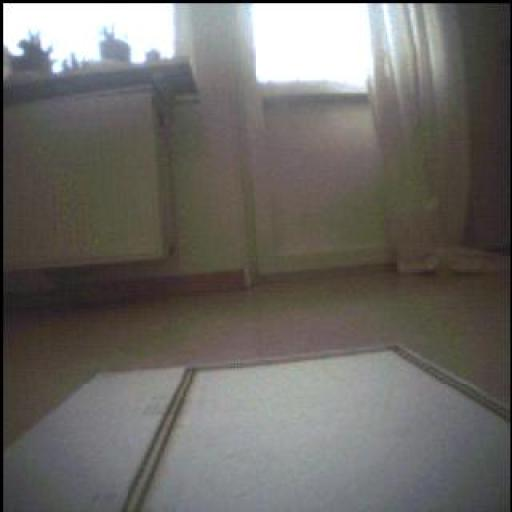Pad: (2, 341, 510, 512)
